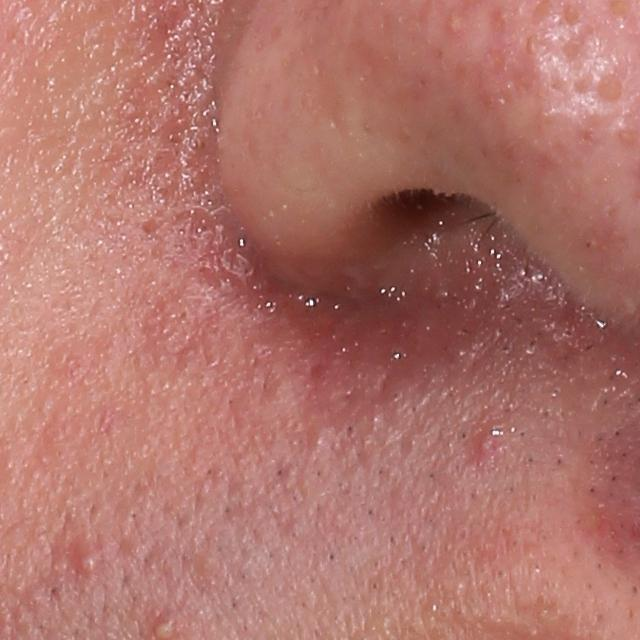papule: (464, 415, 508, 462)
pustule: (66, 542, 106, 582)
